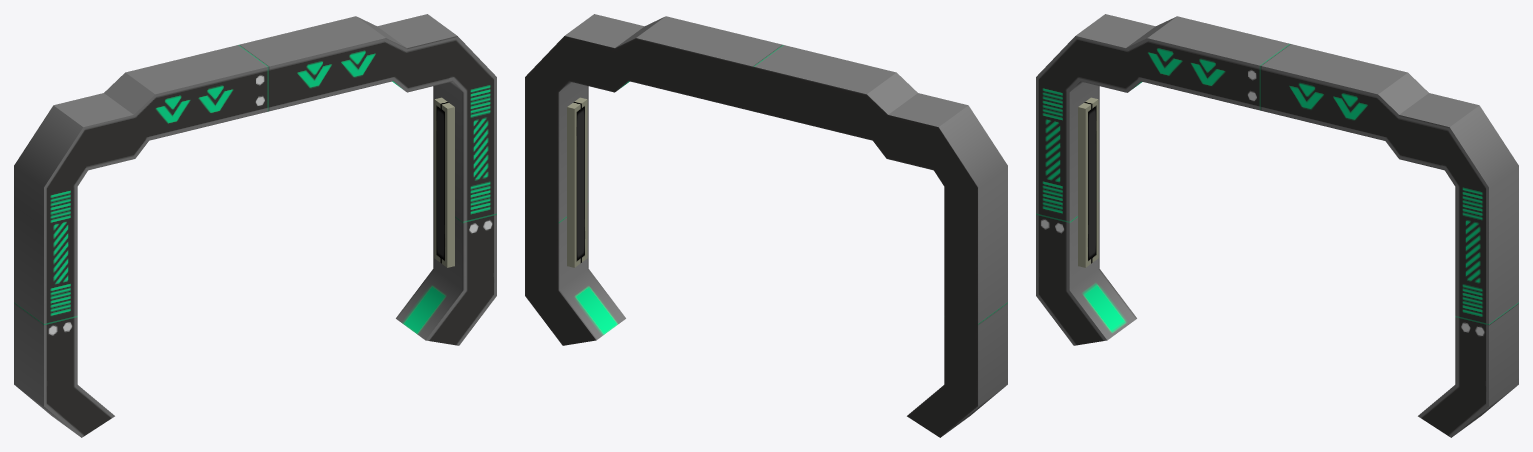
Rendered from checkp.fbx.
The picture shows the model from 3 angles, left to right: view 1: azimuth 30°, elevation 25°; view 2: azimuth 150°, elevation 25°; view 3: azimuth 330°, elevation 25°; orthographic projection.
Visible parts, largest first — view 1: checkp1; view 2: checkp1; view 3: checkp1.
Boxes of the visible parts, x1,y1,x2,y2 form: checkp1: (14, 14, 496, 437); checkp1: (525, 14, 1007, 437); checkp1: (1036, 14, 1518, 437).
Bounding box in the file's own units: 24.09 × 16.54 × 2.76.
Materials: 1 (1 with a texture image).
